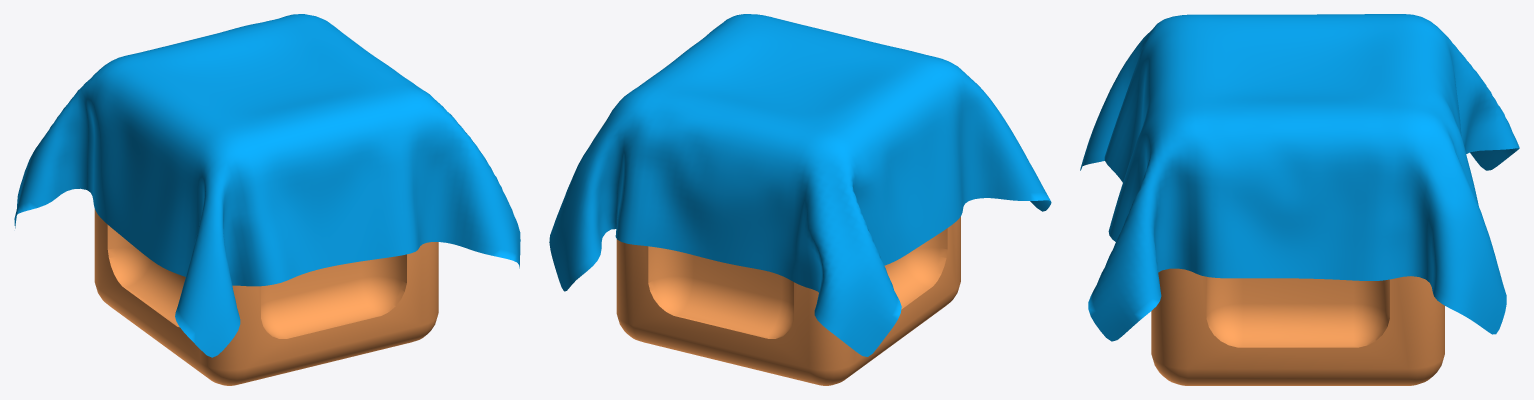
Rendered from rounded_cube_cloth.glb.
3 renders of one model, left to right at view 1: azimuth 30°, elevation 25°; view 2: azimuth 150°, elevation 25°; view 3: azimuth 270°, elevation 25°, orthographic. The views are drawn at different scales.
Visible parts, largest first — view 1: cloth, cube; view 2: cloth, cube; view 3: cloth, cube.
Boxes of the visible parts, bbox=[...] form: cloth: bbox=[14, 14, 520, 357]; cube: bbox=[94, 209, 438, 385]; cloth: bbox=[549, 14, 1051, 356]; cube: bbox=[616, 216, 960, 385]; cloth: bbox=[1080, 14, 1519, 341]; cube: bbox=[1151, 268, 1444, 385].
Size of what is drawn, in the model's own units: 3.09 by 2.03 by 2.98.
